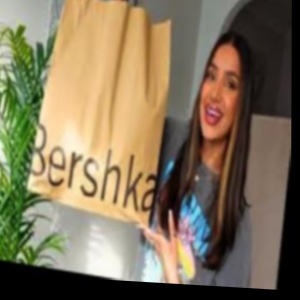bershka: (138, 45, 183, 208)
